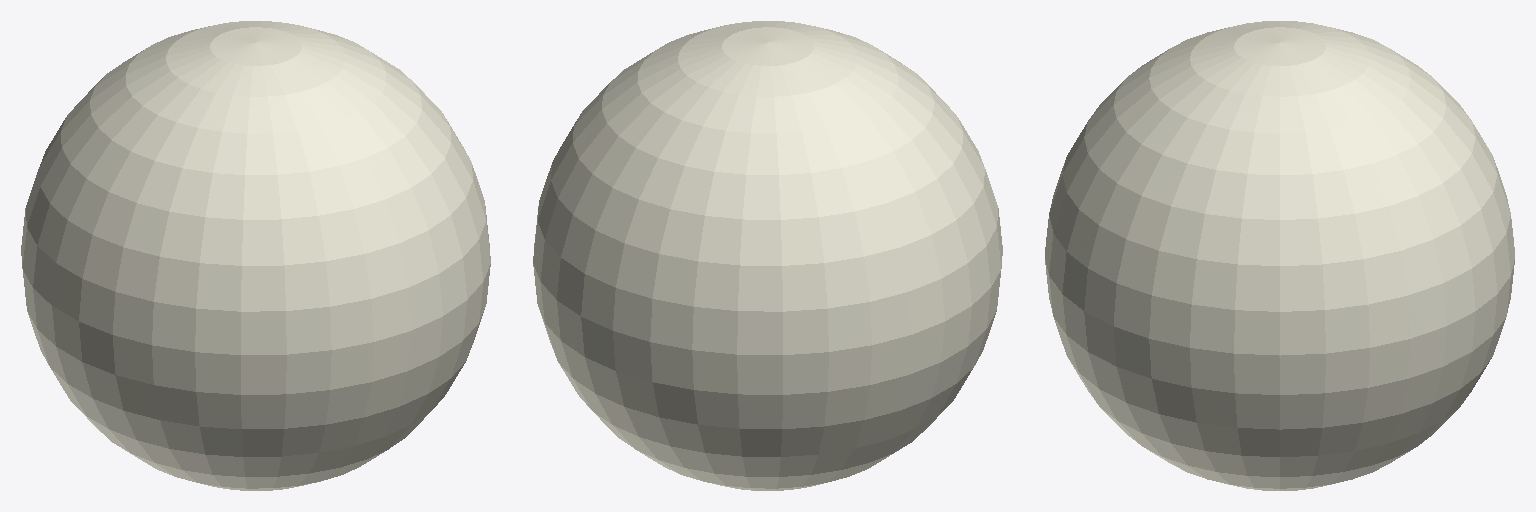
3 views of the same model, side by side, from view 1: azimuth 30°, elevation 25°; view 2: azimuth 150°, elevation 25°; view 3: azimuth 270°, elevation 25° (orthographic).
Visible parts, largest first — view 1: Sphere; view 2: Sphere; view 3: Sphere.
Boxes of the visible parts, x1=… form: Sphere: x1=21, y1=21, x2=490, y2=490; Sphere: x1=533, y1=21, x2=1002, y2=490; Sphere: x1=1045, y1=21, x2=1514, y2=490.
Size of the model in its own units: 2 by 2 by 2.
Materials: 1 (1 with a texture image).